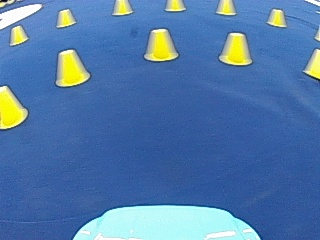cone: (54, 48, 89, 86), (144, 28, 178, 62), (0, 85, 27, 127), (219, 31, 252, 65), (304, 48, 319, 77), (267, 8, 286, 27), (56, 8, 75, 27), (10, 25, 27, 45), (112, 0, 132, 15), (216, 0, 235, 15), (165, 0, 184, 11)
